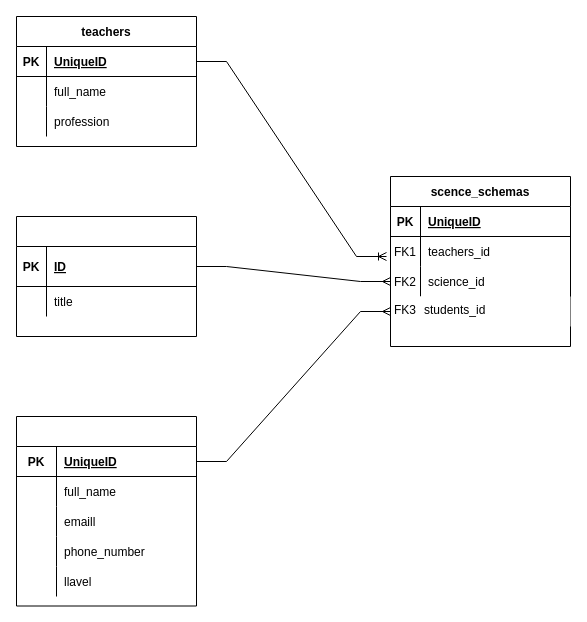
Some shapes in this 587 by 622 pixel diagram are drawn without their labels. The box of each missing label's shape, as (x1, y1, x2, y2) in pixels:
sciences: (16, 216, 196, 336)
students: (16, 416, 196, 606)
